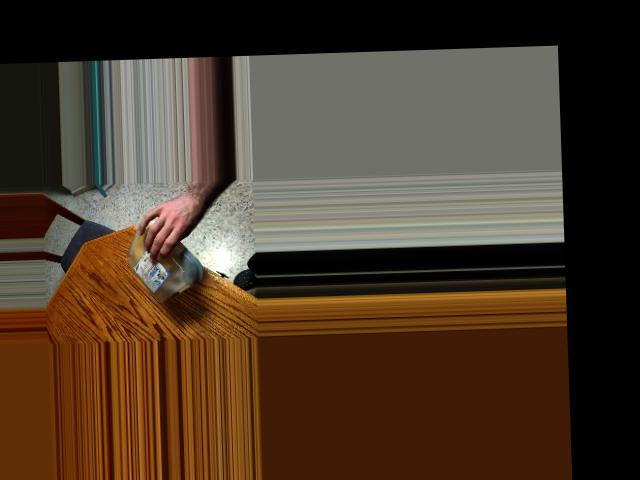cheese: (122, 208, 200, 304)
